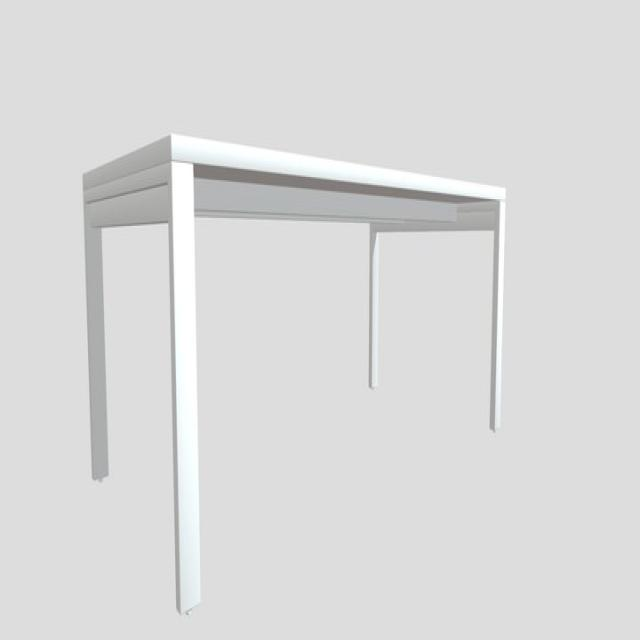table: (82, 131, 508, 612)
